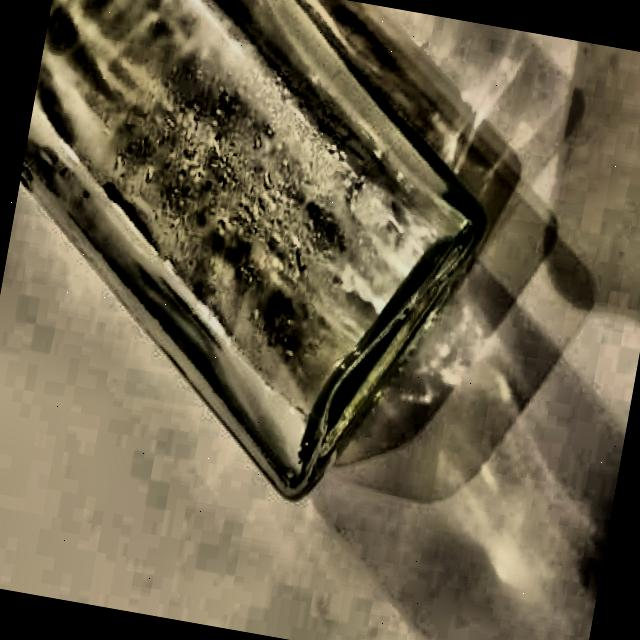glass: (0, 0, 518, 520)
